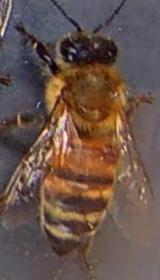varroa_mite: (91, 134, 124, 172)
